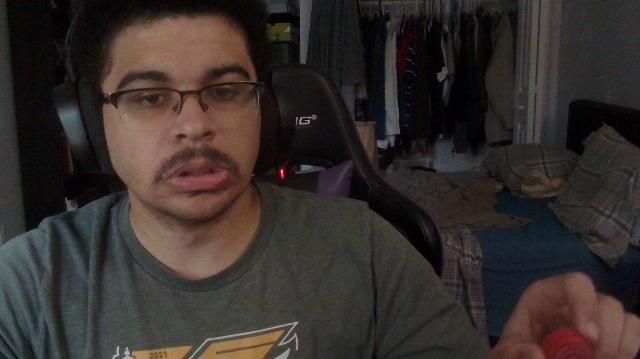cap: (540, 329, 594, 359)
